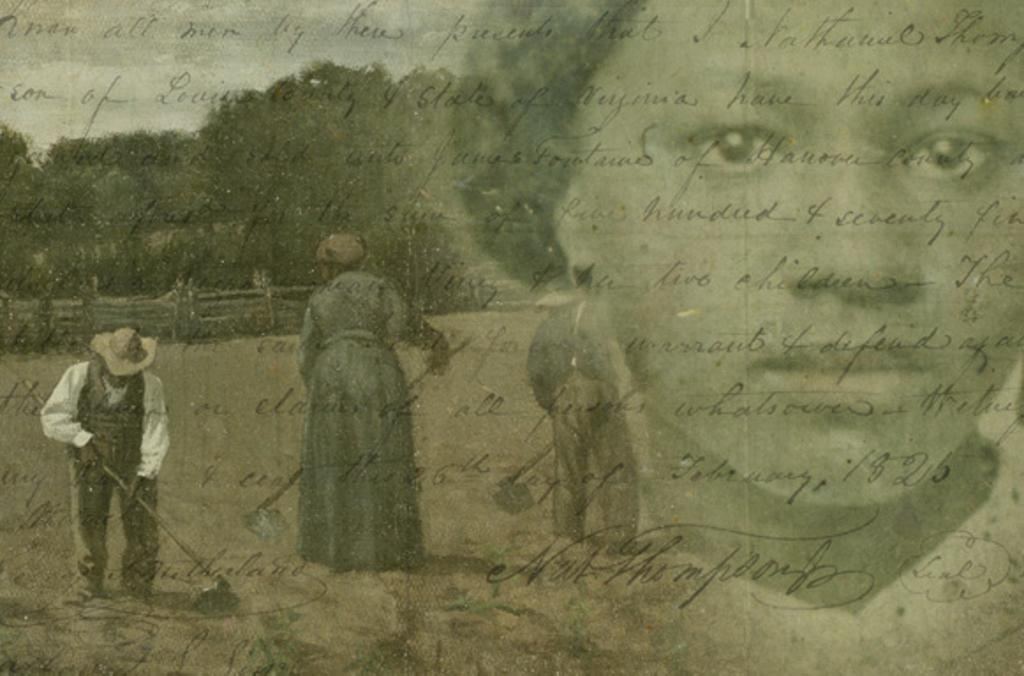face: (626, 18, 1024, 480)
